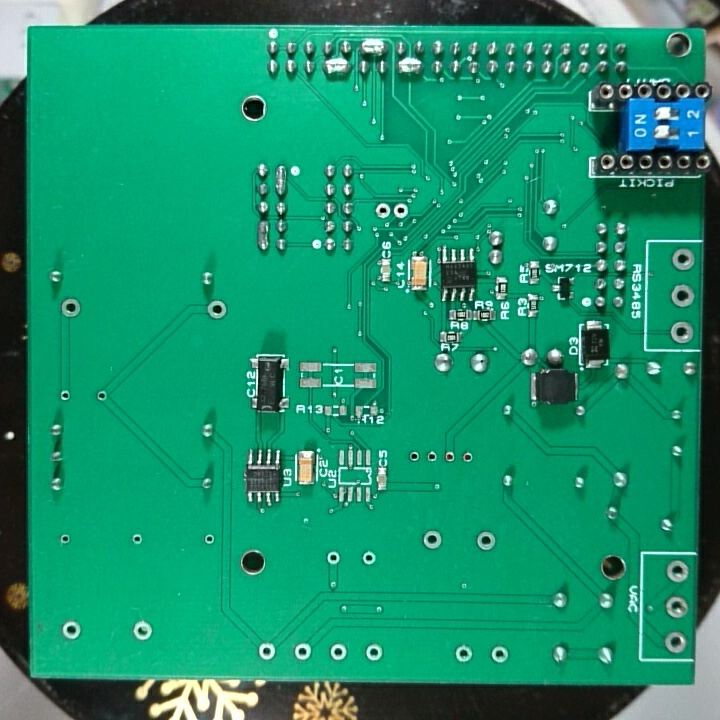F: (663, 593, 690, 621), (668, 246, 697, 272), (668, 319, 695, 346), (664, 557, 691, 584), (662, 629, 688, 656), (669, 284, 697, 309), (57, 295, 82, 321), (59, 619, 85, 643), (419, 527, 443, 553), (205, 298, 229, 323), (131, 618, 155, 642), (452, 642, 475, 666), (362, 642, 387, 664), (475, 528, 497, 552), (489, 644, 511, 667), (328, 641, 350, 663), (291, 641, 314, 662), (458, 446, 478, 469), (372, 200, 392, 223), (257, 640, 278, 661), (392, 199, 410, 223), (359, 547, 378, 569), (325, 549, 345, 568), (405, 446, 424, 466), (440, 447, 459, 467), (57, 386, 74, 407), (201, 531, 218, 550), (423, 447, 440, 466), (57, 531, 74, 549), (129, 530, 145, 549), (94, 386, 109, 406)
P: (319, 56, 353, 80), (254, 217, 274, 252), (359, 35, 388, 58), (273, 160, 289, 198), (395, 56, 425, 76)
